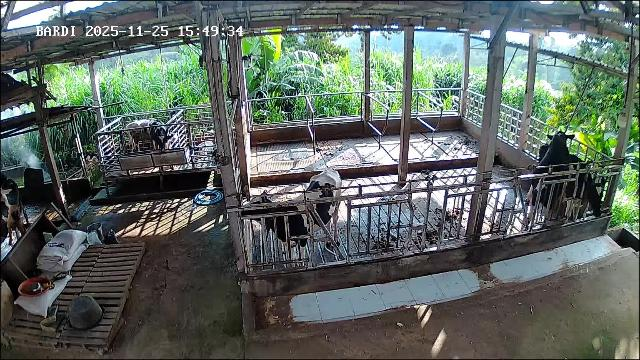mounting: (522, 130, 578, 231)
